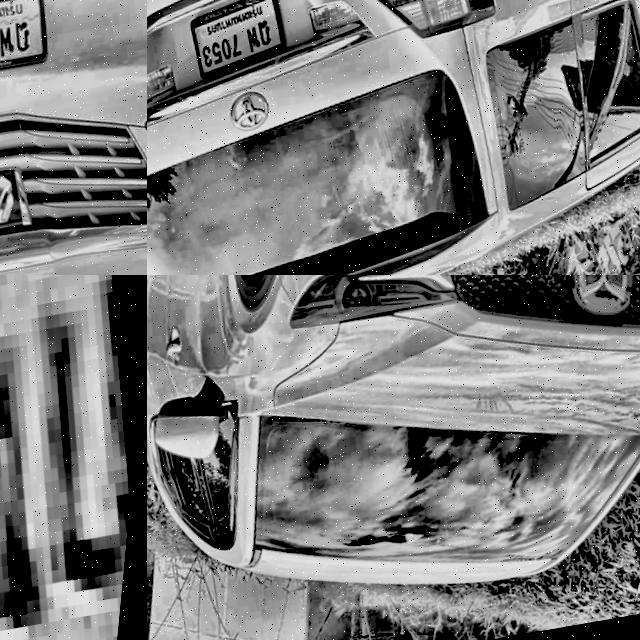license-plate: (0, 275, 147, 640), (184, 0, 301, 86), (0, 0, 56, 84)
